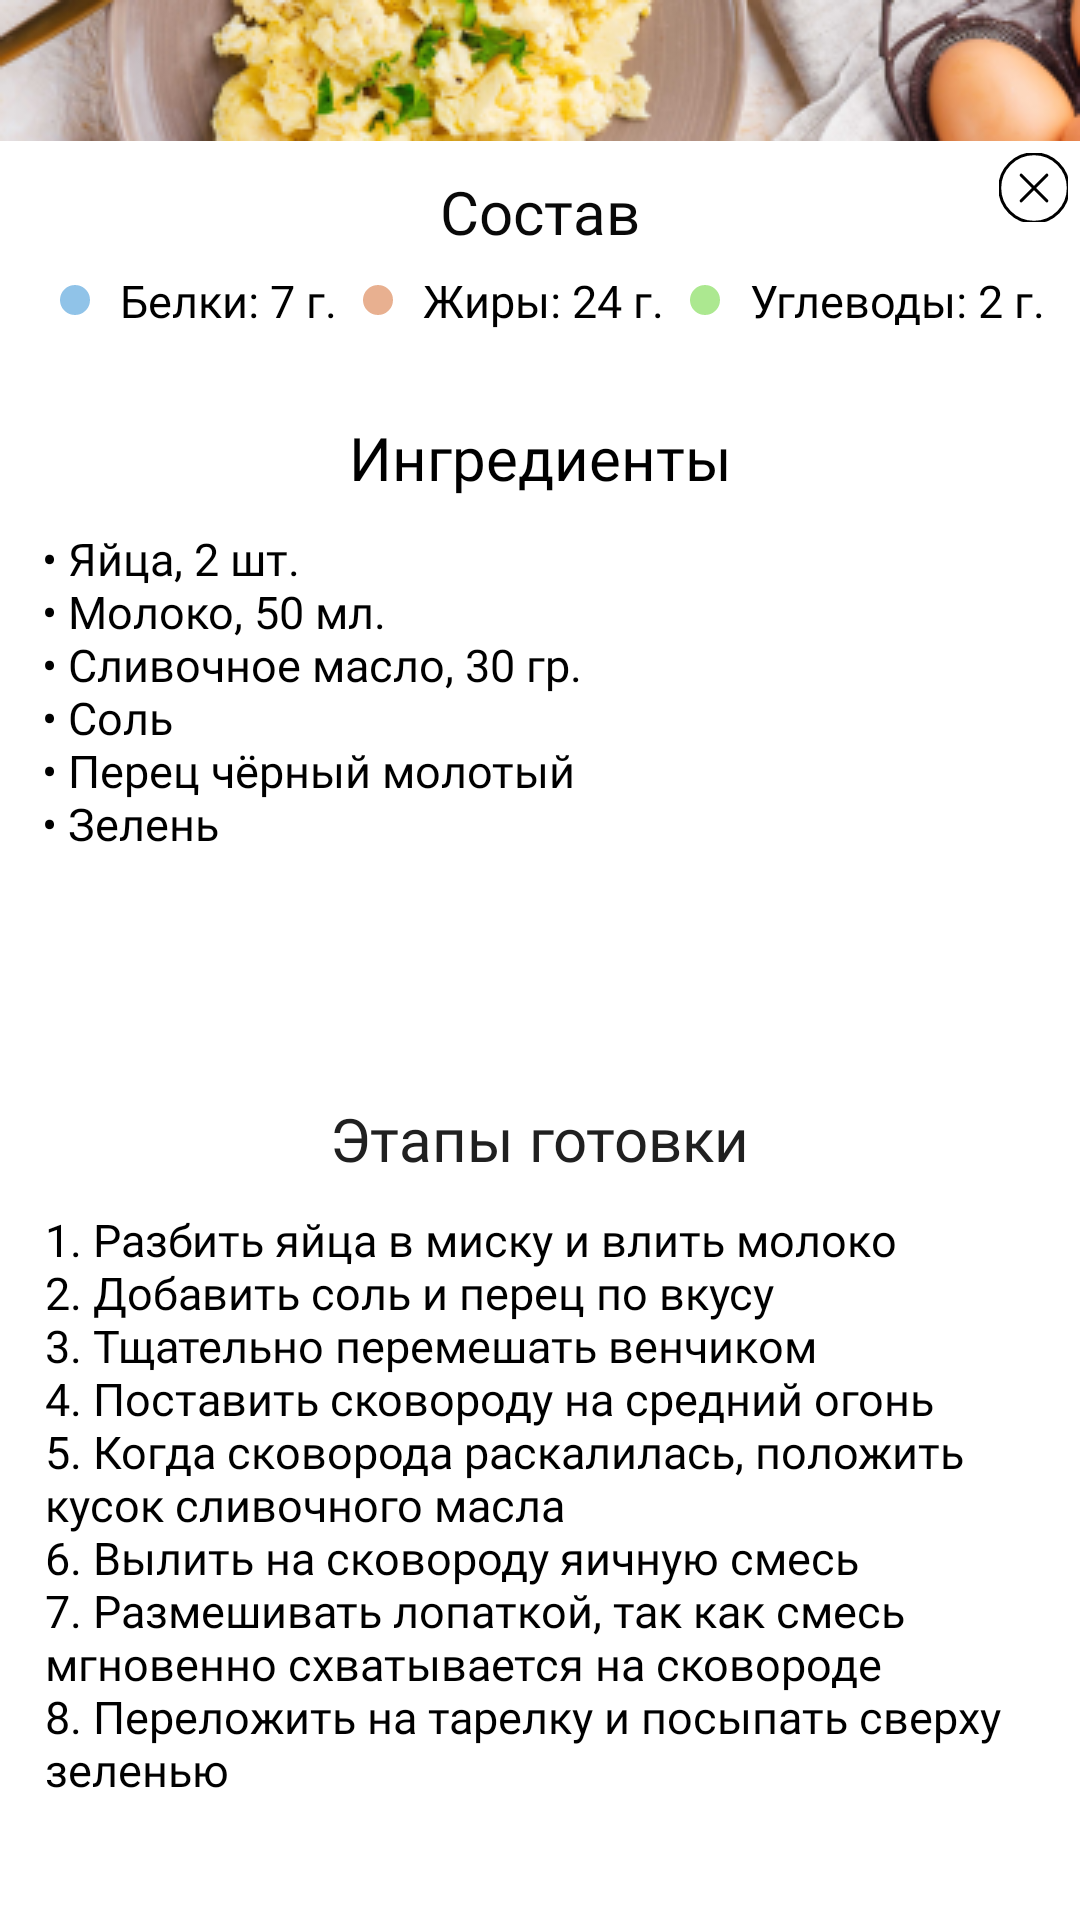

Point at icon controls on the screen. Image size 1080x1920, points as point (x, y).
exit krest: point (1033, 187)
